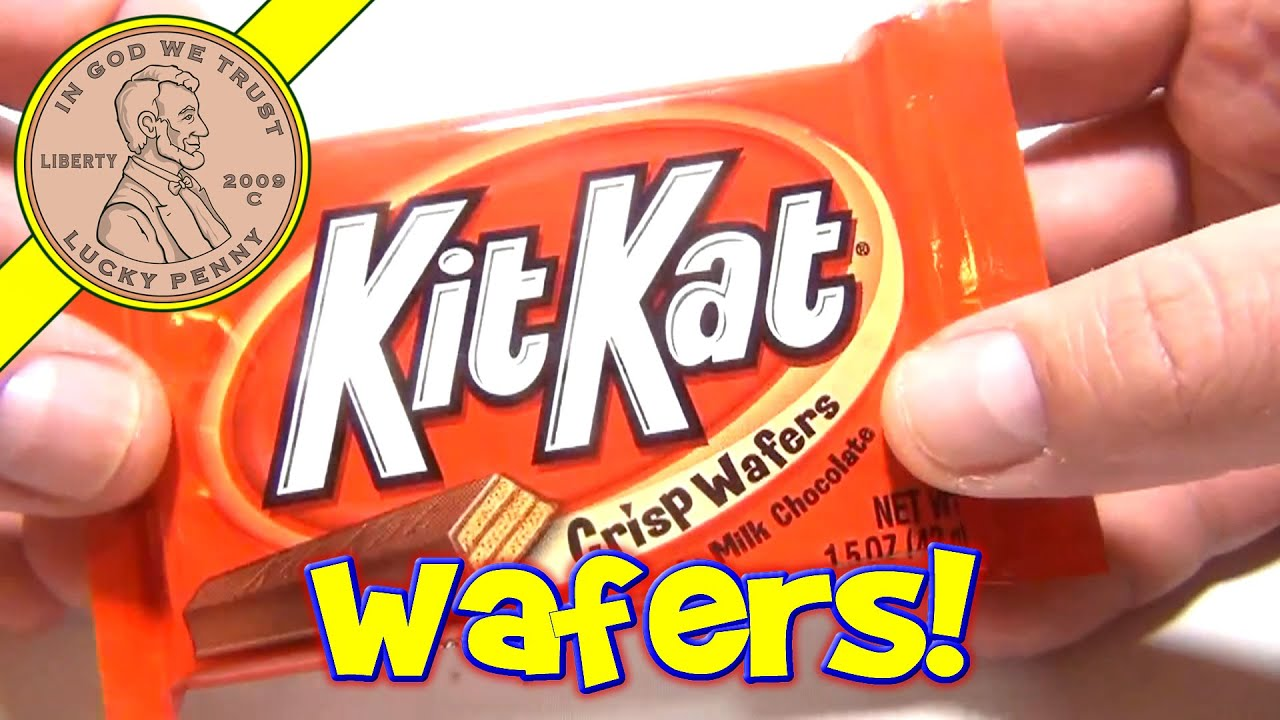kitkat: (82, 16, 1088, 698)
